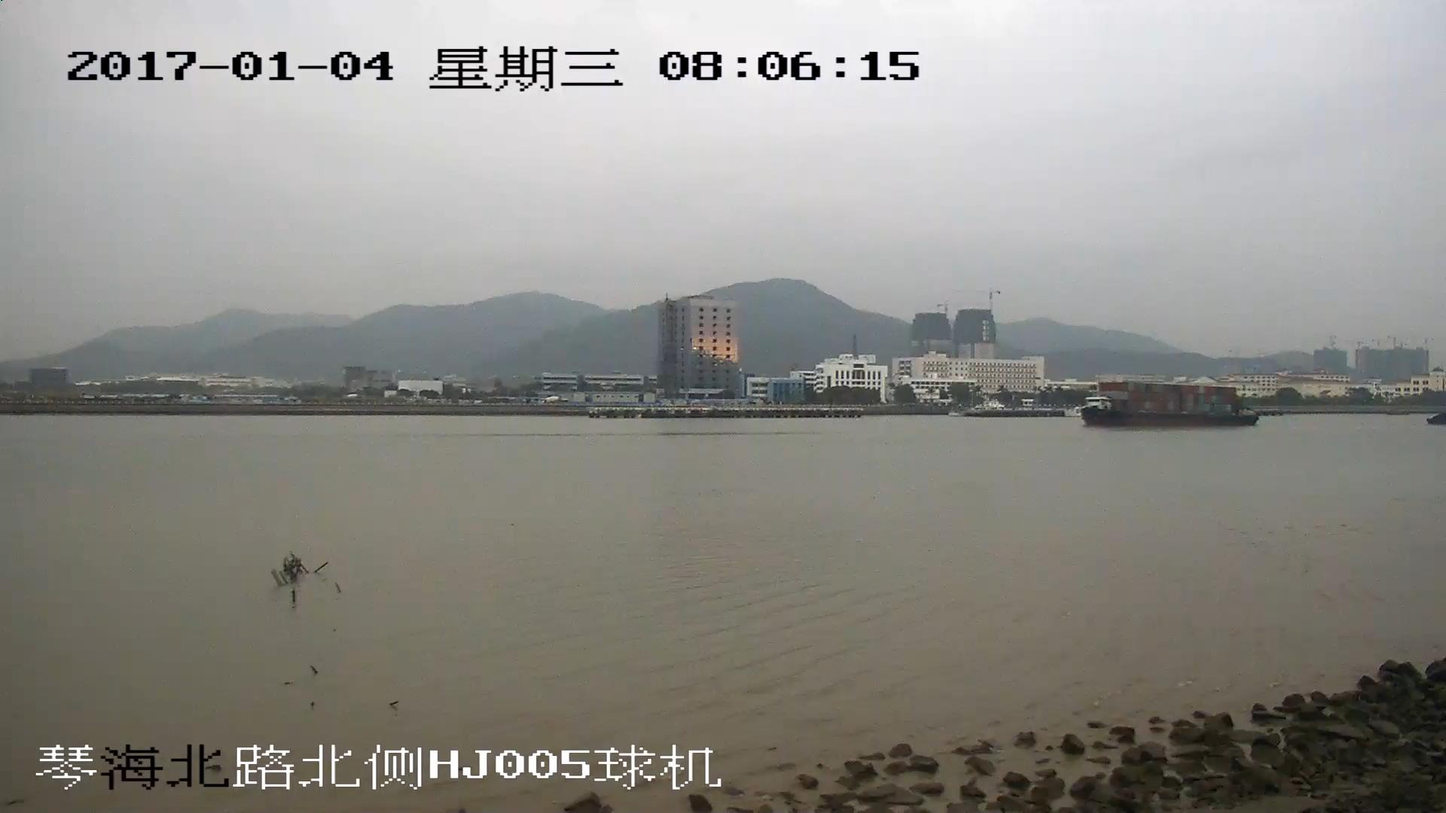container ship: (1082, 379, 1255, 428)
